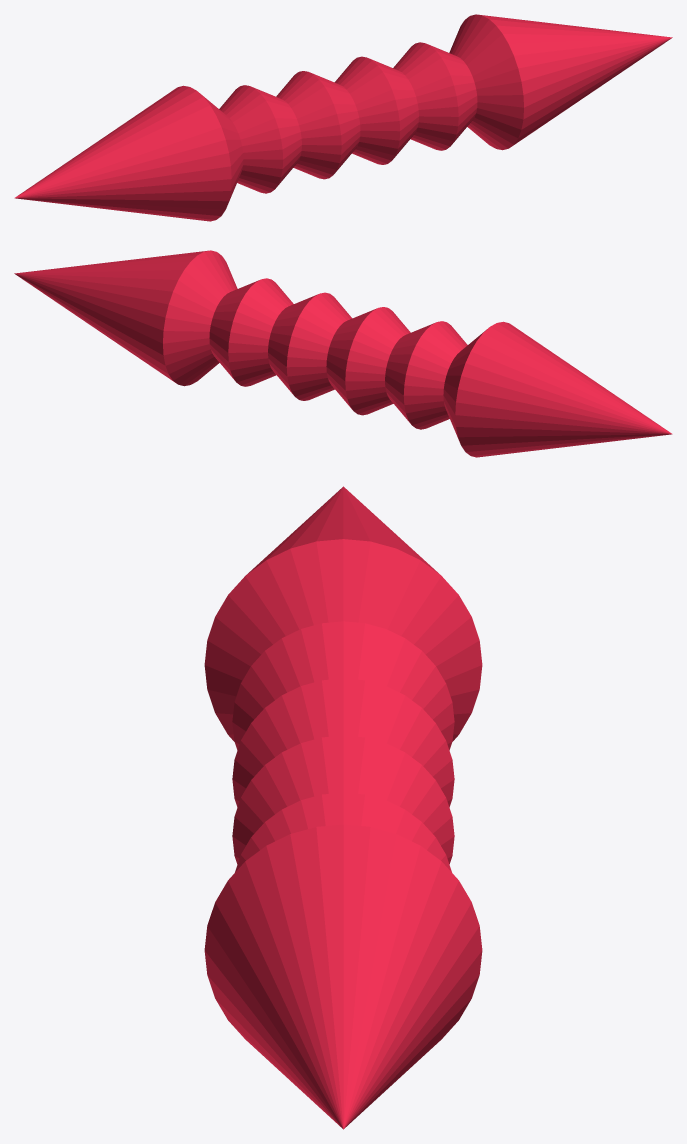
Rendered from Drone_Projectile.fbx.
3 renders of one model, top to bottom at view 1: azimuth 30°, elevation 25°; view 2: azimuth 150°, elevation 25°; view 3: azimuth 270°, elevation 25°, orthographic. The views are drawn at different scales.
Parts seen in each view (by area): view 1: Weapon_Projectile; view 2: Weapon_Projectile; view 3: Weapon_Projectile.
Part boxes in pixels (box(x1,y1,x2,y2)): Weapon_Projectile: box(14, 14, 672, 221); Weapon_Projectile: box(14, 250, 672, 457); Weapon_Projectile: box(204, 486, 482, 1129).
Size of the model in its own units: 174 by 31.8 by 31.8.
